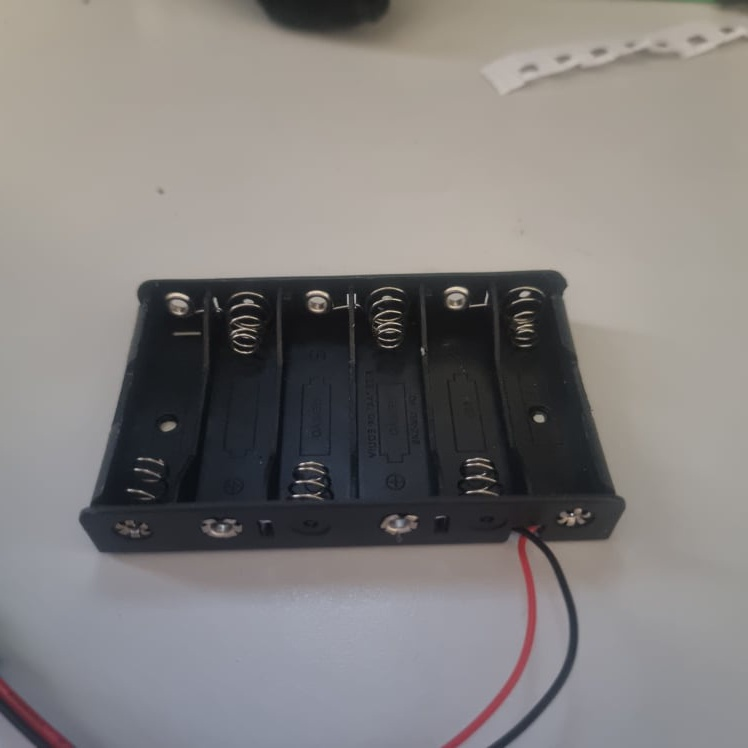BATTERY BOX: (80, 269, 629, 548)
